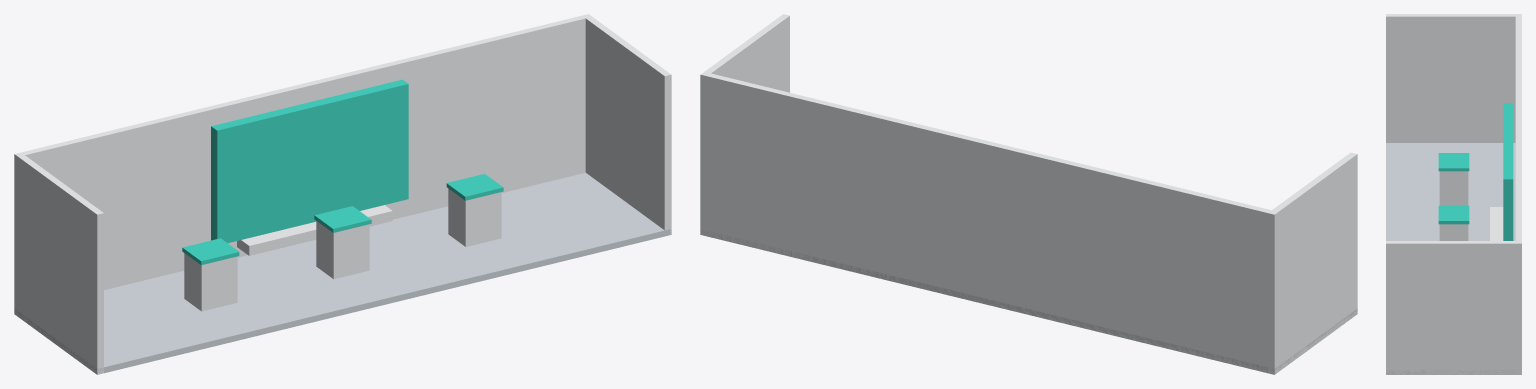
3 renders of one model, left to right at view 1: azimuth 30°, elevation 25°; view 2: azimuth 150°, elevation 25°; view 3: azimuth 270°, elevation 25°, orthographic. The views are drawn at different scales.
Visible parts, largest first — view 1: Exhibition Booth Concept; view 2: Exhibition Booth Concept; view 3: Exhibition Booth Concept.
Part boxes in pixels (left/top/right/bottom): Exhibition Booth Concept: left=14, top=14, right=671, bottom=374; Exhibition Booth Concept: left=700, top=14, right=1357, bottom=374; Exhibition Booth Concept: left=1386, top=14, right=1521, bottom=374.
Bounding box in the file's own units: 12 × 3.2 × 3.
